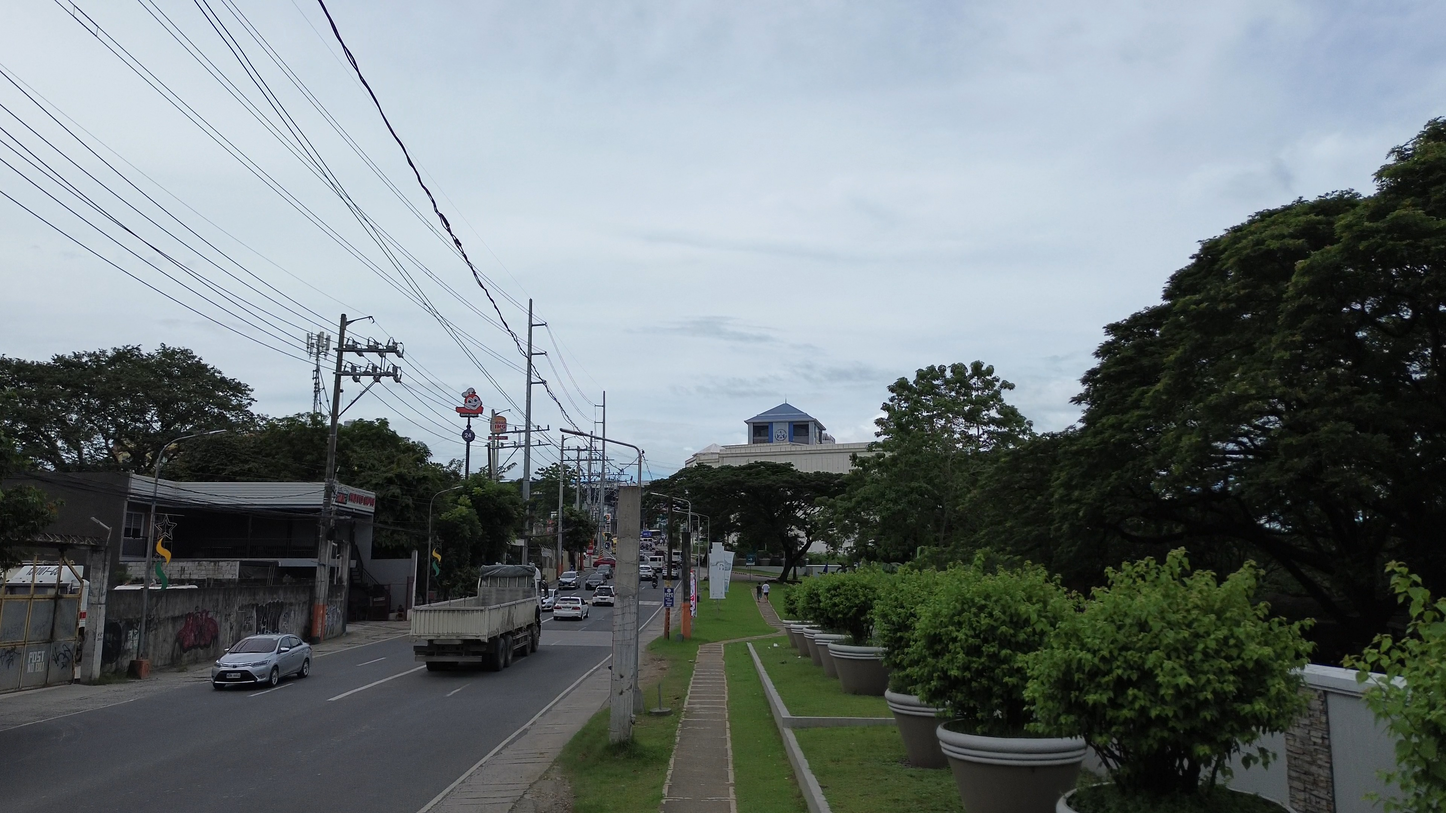car: (211, 634, 311, 690), (554, 595, 589, 620), (540, 588, 557, 611), (640, 564, 653, 579)
truck: (410, 565, 540, 670)
vehicle: (591, 585, 615, 606), (583, 571, 606, 591), (540, 588, 558, 612), (558, 571, 580, 589), (597, 564, 613, 580), (594, 557, 616, 567)
